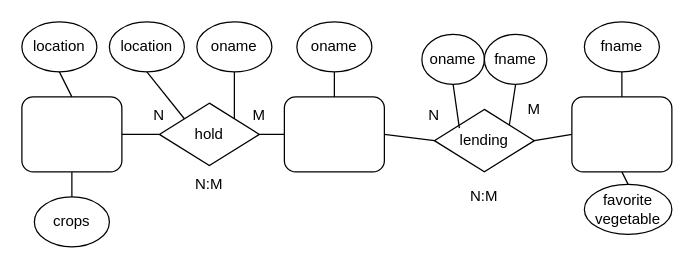
This 694x269 diagram has some shape labels left out. The centre of each missing label's shape, as x and y in pixels:
farmer: (621,134)
farmland: (71,134)
owner: (333,134)
